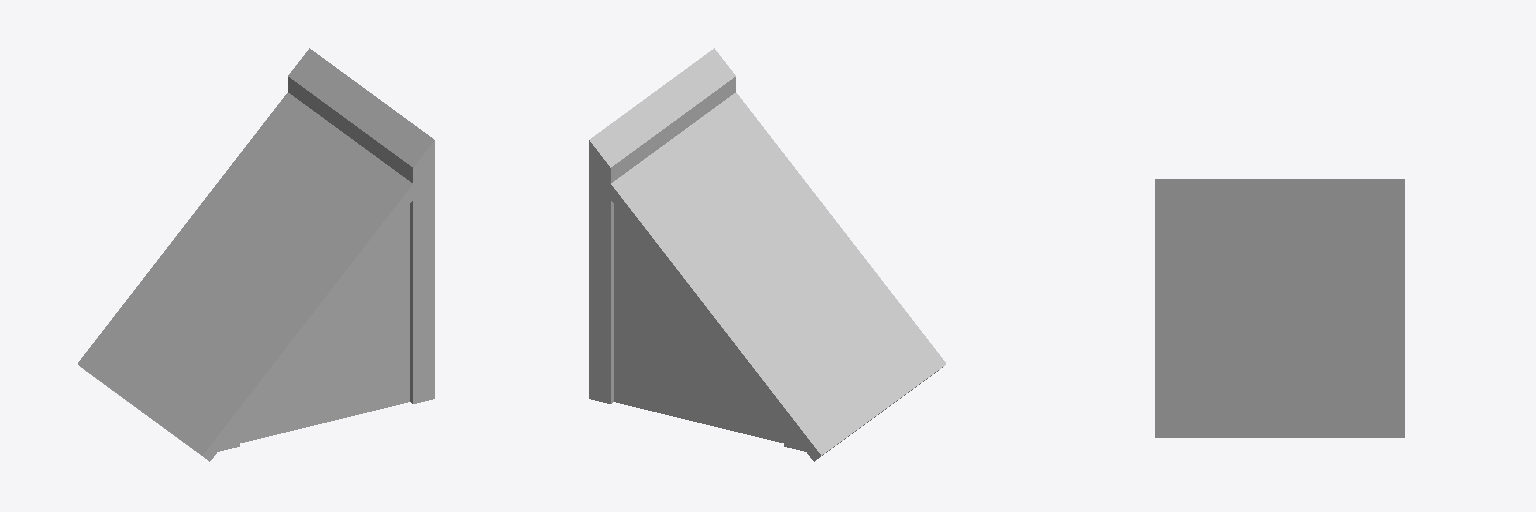
The model's file is roof-high.obj.
3 renders of one model, left to right at view 1: azimuth 30°, elevation 25°; view 2: azimuth 150°, elevation 25°; view 3: azimuth 270°, elevation 25°, orthographic.
Parts seen in each view (by area): view 1: roof-high; view 2: roof-high; view 3: roof-high.
Boxes of the visible parts, x1=… form: roof-high: x1=78, y1=48, x2=434, y2=461; roof-high: x1=589, y1=48, x2=945, y2=461; roof-high: x1=1155, y1=179, x2=1404, y2=437.
Bounding box in the file's own units: 1.07 × 1.18 × 1.